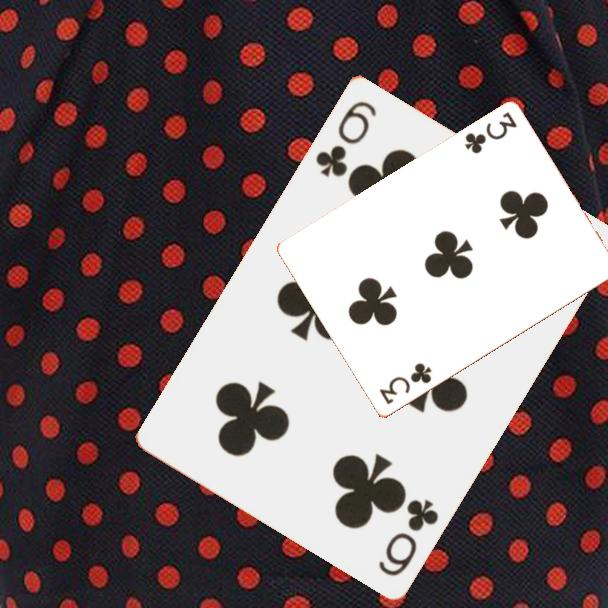c03: (375, 359, 435, 408), (461, 109, 520, 157)
c06: (311, 96, 380, 180), (375, 495, 442, 579)
